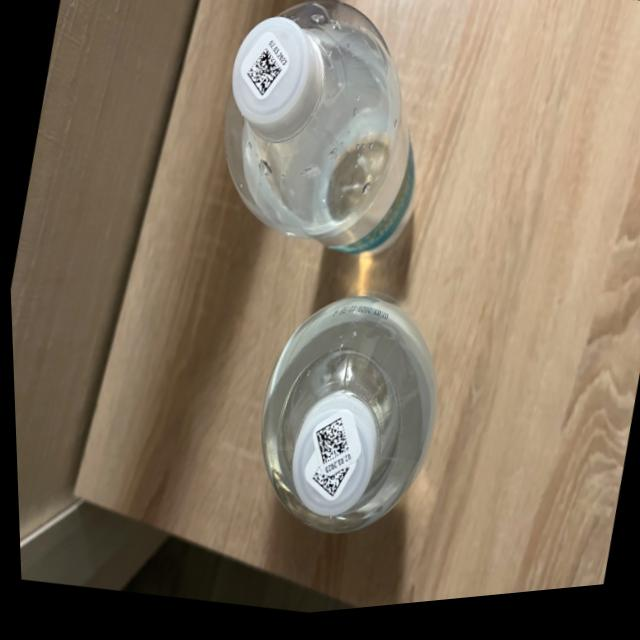datamatrix: (306, 418, 352, 475), (242, 49, 287, 105)
